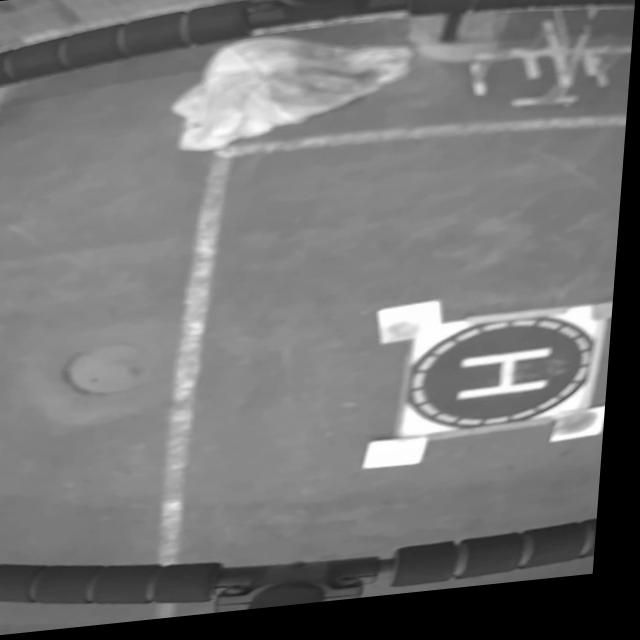Helipad: (464, 359, 559, 410)
